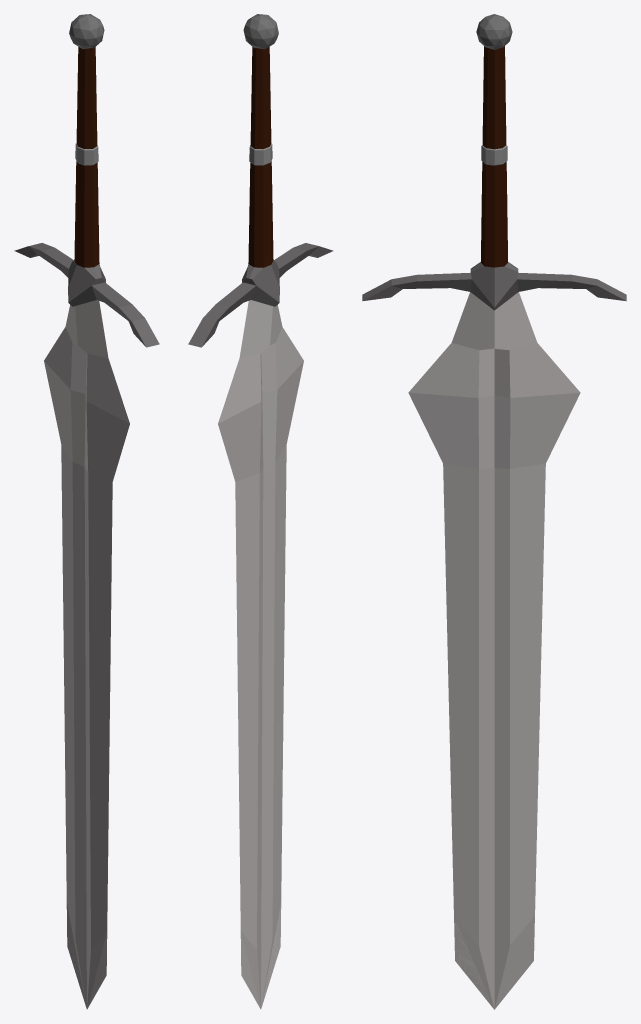
The model's file is HeavySword.fbx.
3 renders of one model, left to right at view 1: azimuth 30°, elevation 25°; view 2: azimuth 150°, elevation 25°; view 3: azimuth 270°, elevation 25°, orthographic.
Parts seen in each view (by area): view 1: Sword; view 2: Sword; view 3: Sword.
Part boxes in pixels (x1,y1,x2,y2): Sword: (14,14,159,1009); Sword: (188,14,333,1009); Sword: (362,14,626,1009).
Size of the model in its own units: 0.1757 by 1.06 by 4.41.
